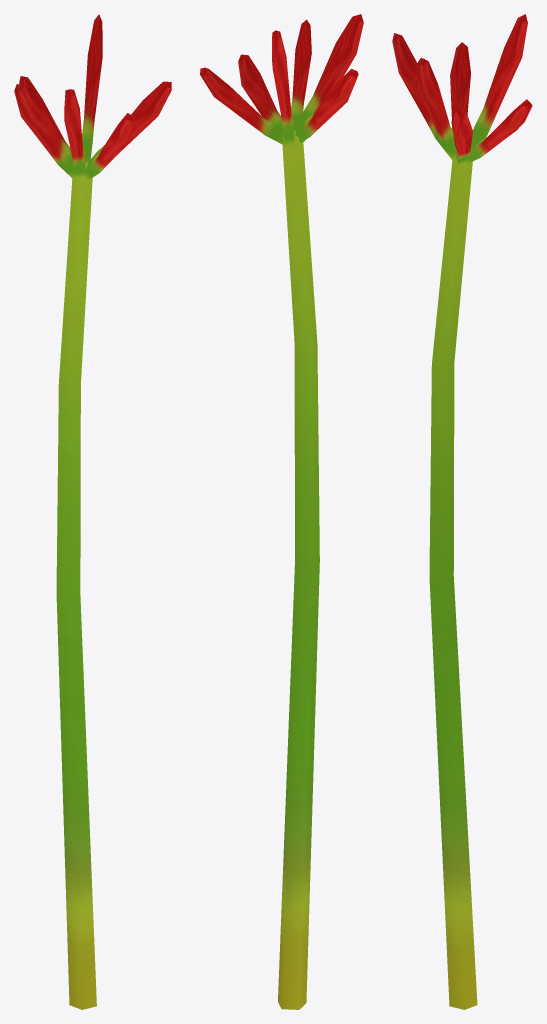
The model's file is m_lycoris03.fbx.
3 renders of one model, left to right at view 1: azimuth 30°, elevation 25°; view 2: azimuth 210°, elevation 25°; view 3: azimuth 330°, elevation 25°, orthographic. The views are drawn at different scales.
Parts seen in each view (by area): view 1: mesh_lycoris03_LOD0; view 2: mesh_lycoris03_LOD0; view 3: mesh_lycoris03_LOD0.
Part boxes in pixels (x1,y1,x2,y2): mesh_lycoris03_LOD0: (14, 14, 171, 1009); mesh_lycoris03_LOD0: (200, 14, 363, 1009); mesh_lycoris03_LOD0: (392, 14, 532, 1009).
Size of what is drawn, in the model's own units: 0.0538 by 0.3406 by 0.0377.
